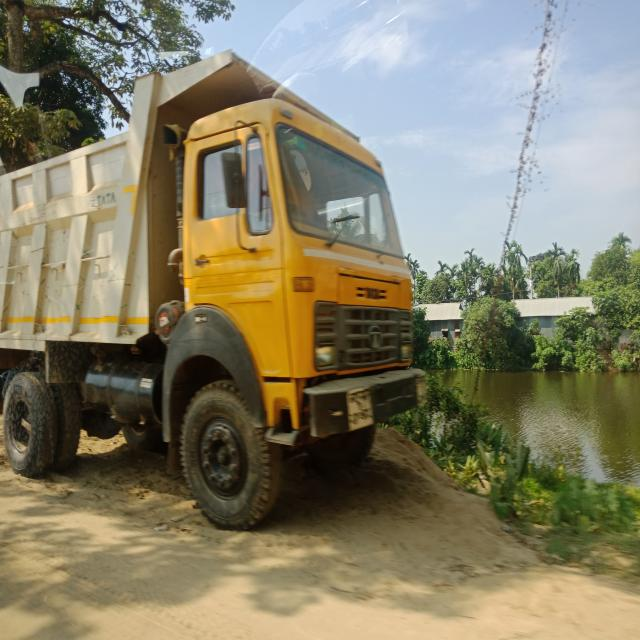truck: (0, 34, 428, 535)
